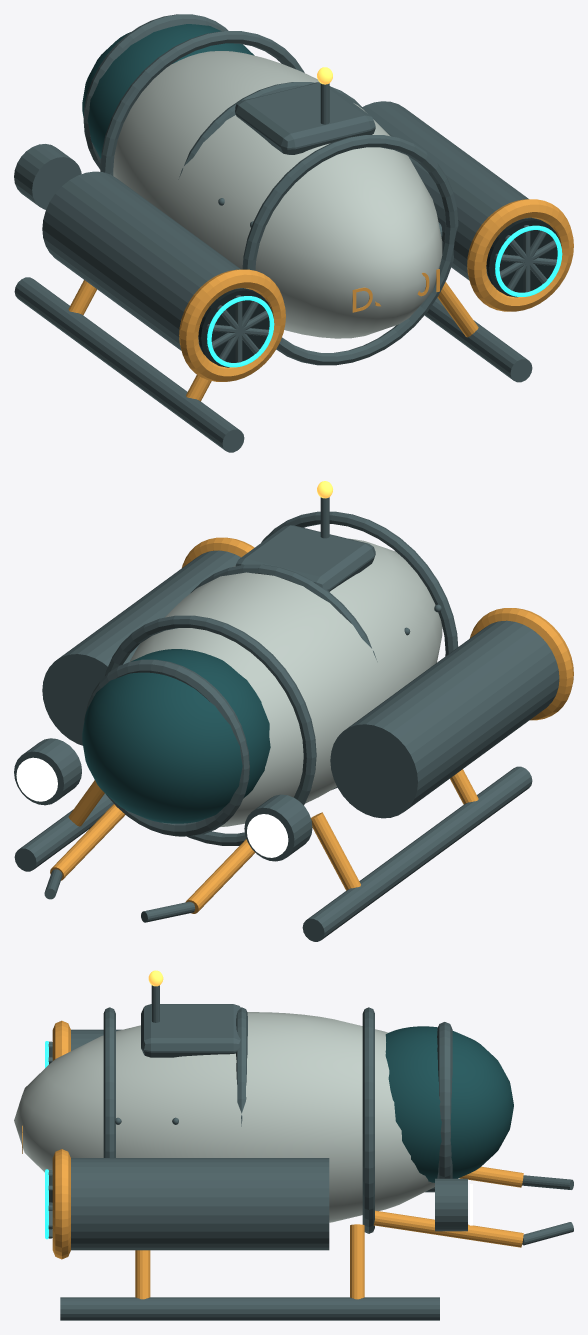
The model's file is submersible.glb.
The picture shows the model from 3 angles, top to bottom: view 1: azimuth 30°, elevation 25°; view 2: azimuth 150°, elevation 25°; view 3: azimuth 270°, elevation 25°; orthographic projection. The views are drawn at different scales.
Visible parts, largest first — view 1: submersible_Titanium, submersible_Ceramic, submersible_Safety ochre, submersible_Glass, submersible_Rubber, submersible_Bio; view 2: submersible_Titanium, submersible_Ceramic, submersible_Glass, submersible_Safety ochre, submersible_Light; view 3: submersible_Titanium, submersible_Ceramic, submersible_Glass, submersible_Safety ochre.
Part boxes in pixels (box(x1,y1,x2,y2)): submersible_Titanium: box(14, 14, 556, 452); submersible_Ceramic: box(113, 51, 442, 338); submersible_Safety ochre: box(68, 199, 573, 401); submersible_Glass: box(82, 24, 254, 158); submersible_Rubber: box(198, 218, 559, 367); submersible_Bio: box(207, 225, 562, 367); submersible_Titanium: box(14, 497, 559, 941); submersible_Ceramic: box(129, 538, 442, 827); submersible_Glass: box(82, 649, 270, 823); submersible_Safety ochre: box(50, 537, 573, 913); submersible_Light: box(16, 757, 288, 857); submersible_Titanium: box(48, 985, 573, 1320); submersible_Ceramic: box(14, 1012, 434, 1222); submersible_Glass: box(385, 1026, 513, 1182); submersible_Safety ochre: box(22, 1020, 523, 1299).
Bounding box in the file's own units: 2.51 × 1.9 × 3.39.
